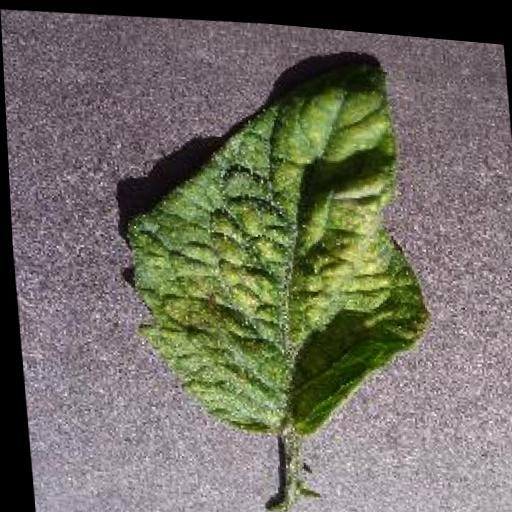Spider Mites: (114, 36, 435, 447)
